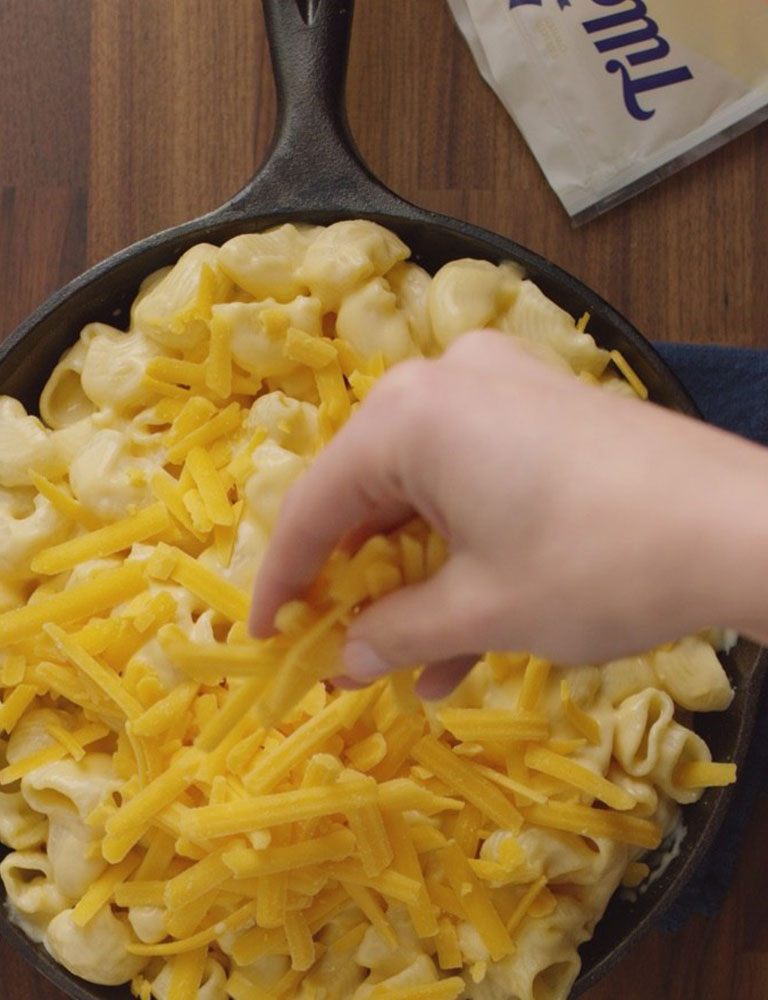cheese: (131, 597, 464, 840)
